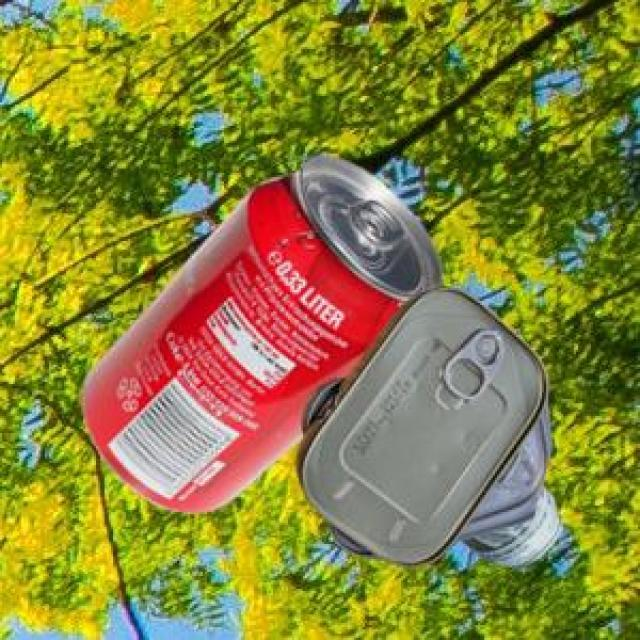Can: (80, 153, 438, 509), (293, 285, 549, 564), (460, 483, 560, 564)
